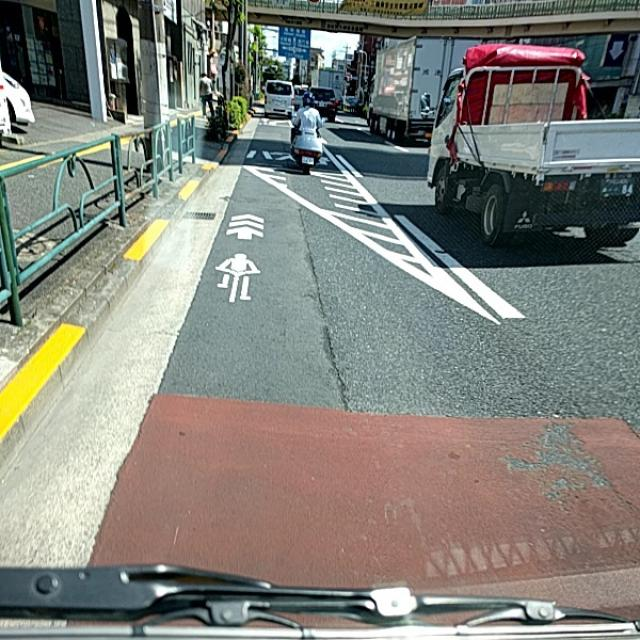pothole: (294, 272, 358, 367)
